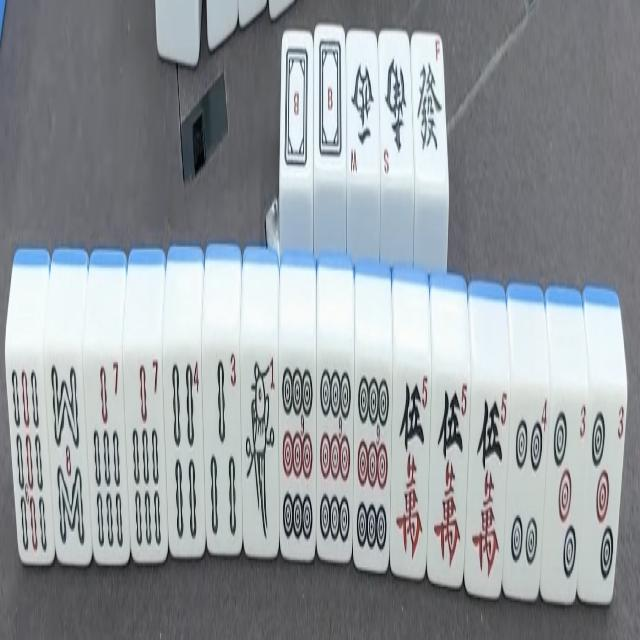bai: (316, 34, 344, 192), (284, 34, 310, 195)
fa: (415, 36, 443, 190)
m5: (432, 357, 464, 582), (470, 379, 503, 590), (395, 359, 426, 569)
s1: (242, 351, 276, 557)
s3: (205, 345, 238, 552)
s4: (168, 348, 200, 557)
s7: (125, 354, 163, 560), (93, 345, 123, 561)
s8: (51, 340, 84, 562)
s9: (9, 360, 48, 566)
south: (382, 34, 410, 183)
t3: (550, 393, 577, 596), (590, 388, 614, 594)
t4: (508, 390, 541, 599)
t9: (279, 345, 314, 565), (316, 354, 351, 562), (354, 348, 388, 562)
west: (348, 40, 376, 194)
